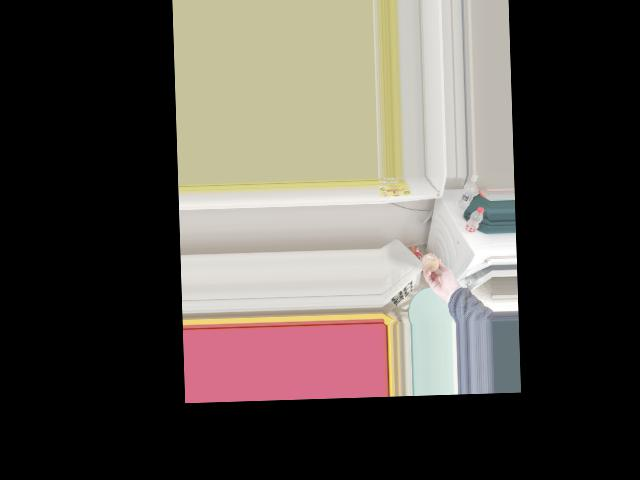sweet_potato: (423, 253, 439, 274)
